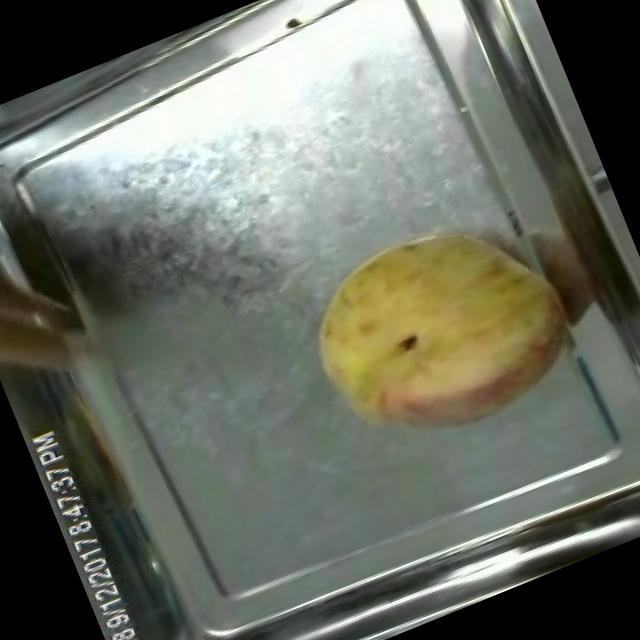Fruit: (276, 178, 598, 478)
